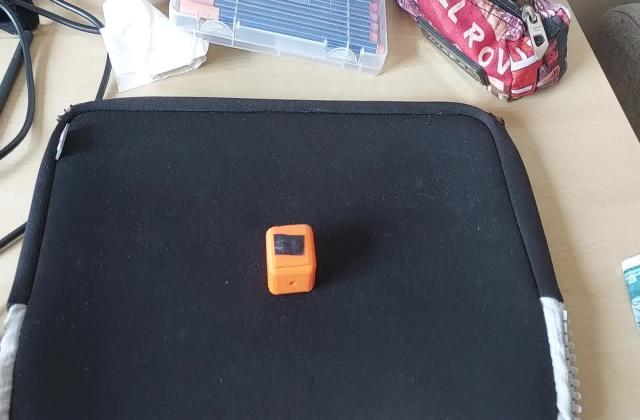black: (269, 231, 308, 259)
sticker: (262, 222, 319, 298)
